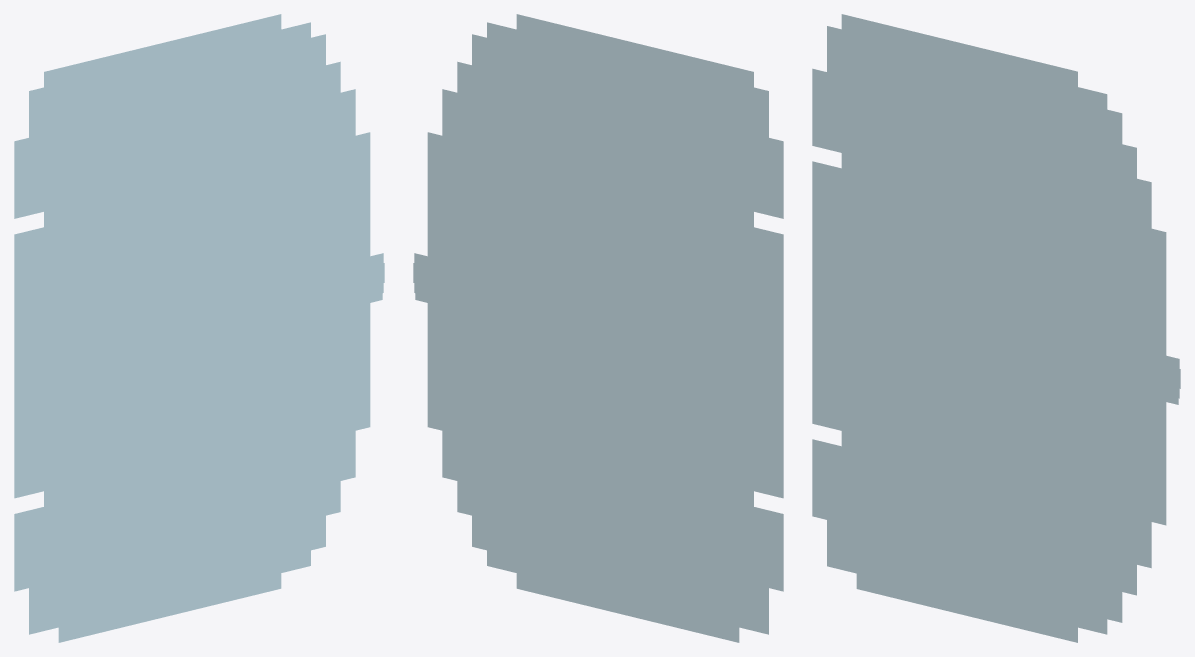
The model's file is wp_water_105.obj.
The picture shows the model from 3 angles, left to right: view 1: azimuth 30°, elevation 25°; view 2: azimuth 150°, elevation 25°; view 3: azimuth 330°, elevation 25°; orthographic projection.
Bounding box in the file's own units: 0.3475 × 0.515 × 0.
1 material, 1 textured.
